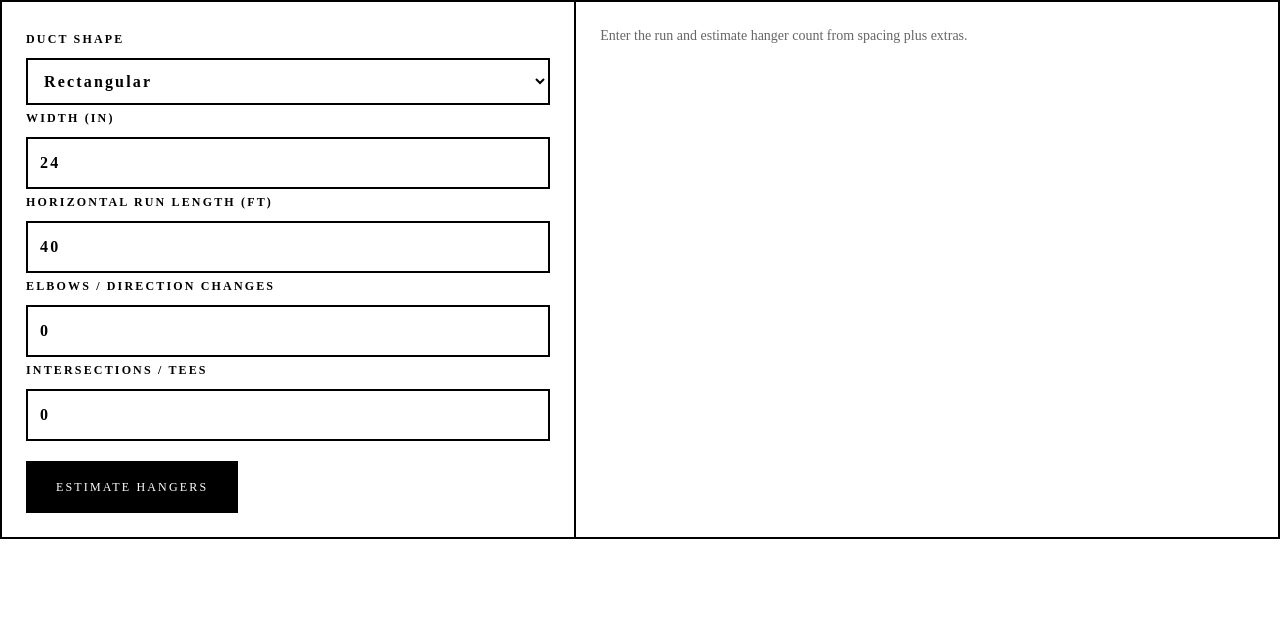
Test: HangerSpacingCalculator › rejects a zero duct size with an accessible error
Step 1. Replace the text in the field labelled "Width (in)" with "0" → (288, 163), box [26,137,550,189]
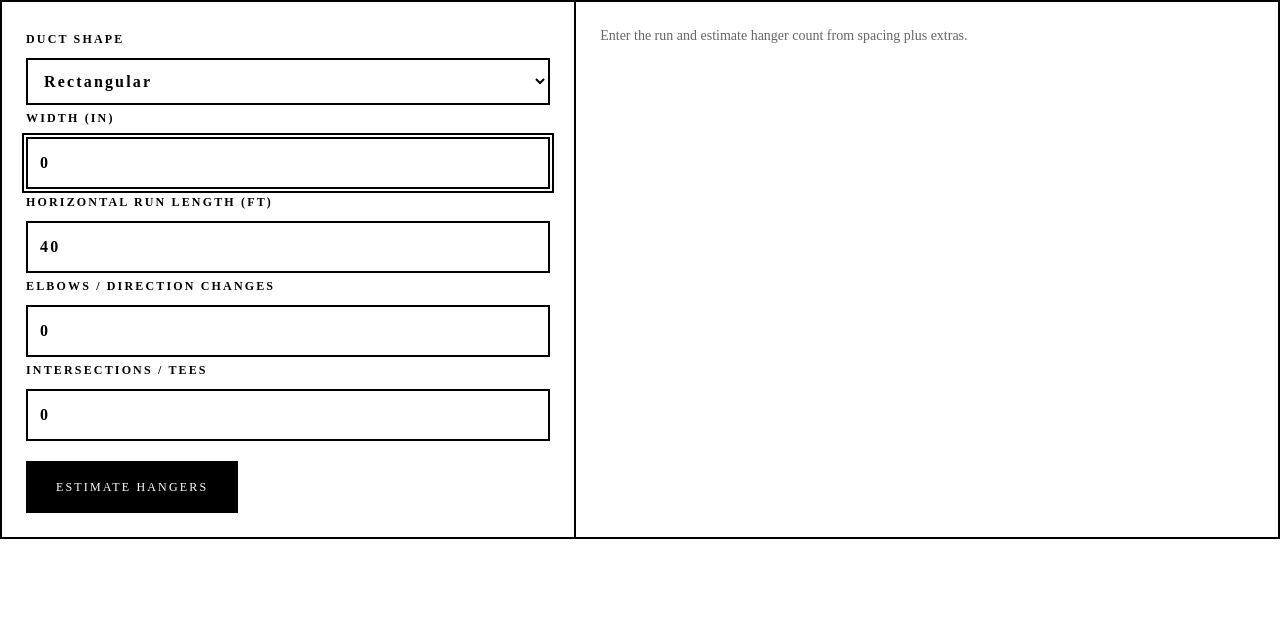
Step 2. Click the button "Estimate hangers" → (132, 487), box [26,461,238,513]
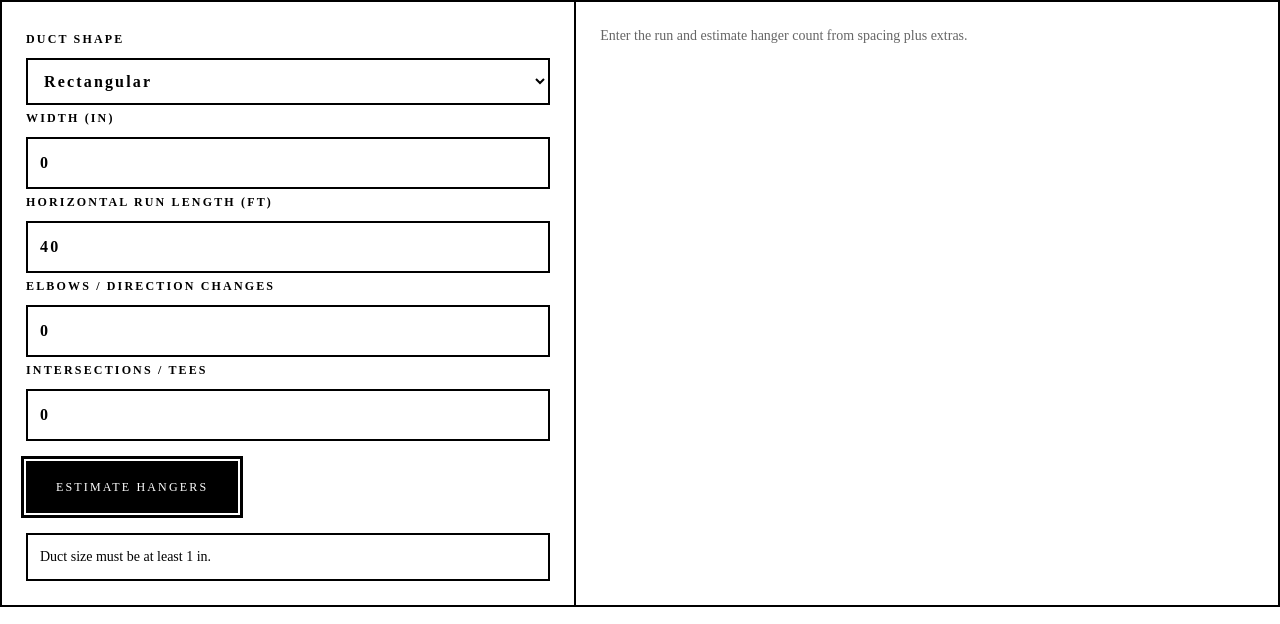
Expected: the message shows "at least 1 in", [40,549,211,564]
